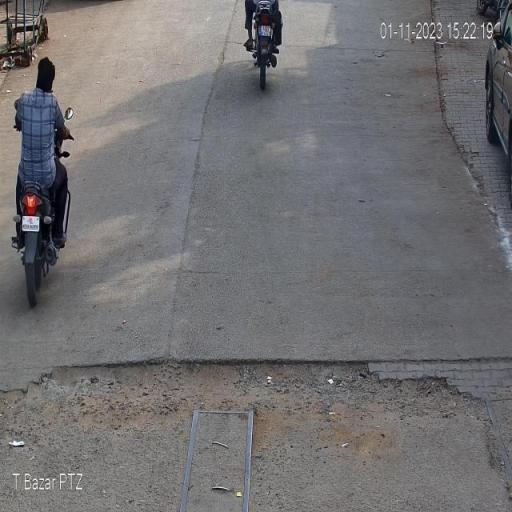using mobile: (46, 86, 56, 96)
